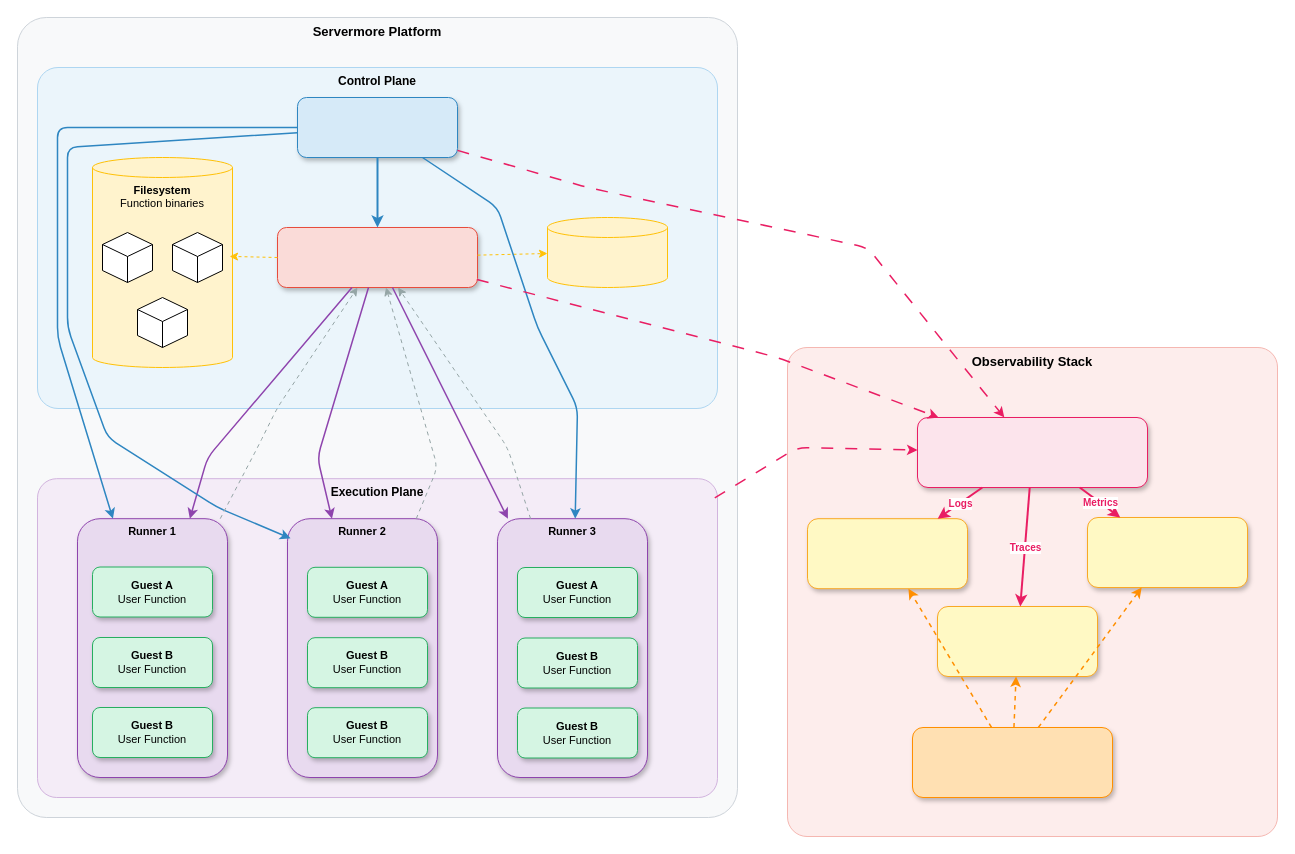
Image size: 1295x854. Some labels were removed from this diagram. Here are the shapes that lost their labels. From the top down, the centre of each, then its label:
the point at 378,128: Gateway
the point at 378,258: Commander
the point at 607,252: SQLite
the point at 1033,453: Alloy
the point at 888,555: Loki
the point at 1168,553: Mimir
the point at 1018,643: Tempo
the point at 1013,763: Grafana
